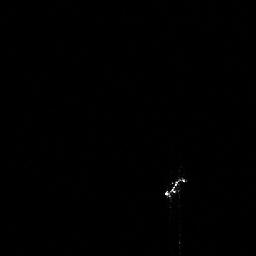ship: (162, 172, 188, 208)
